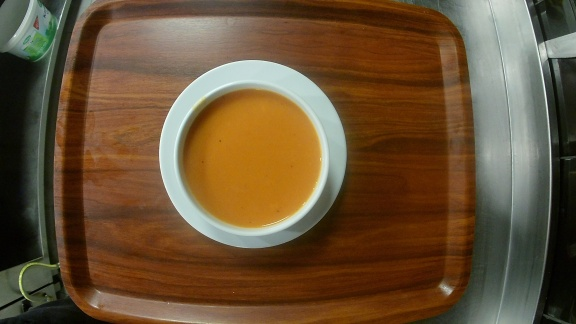domatescorba: (156, 60, 347, 249)
